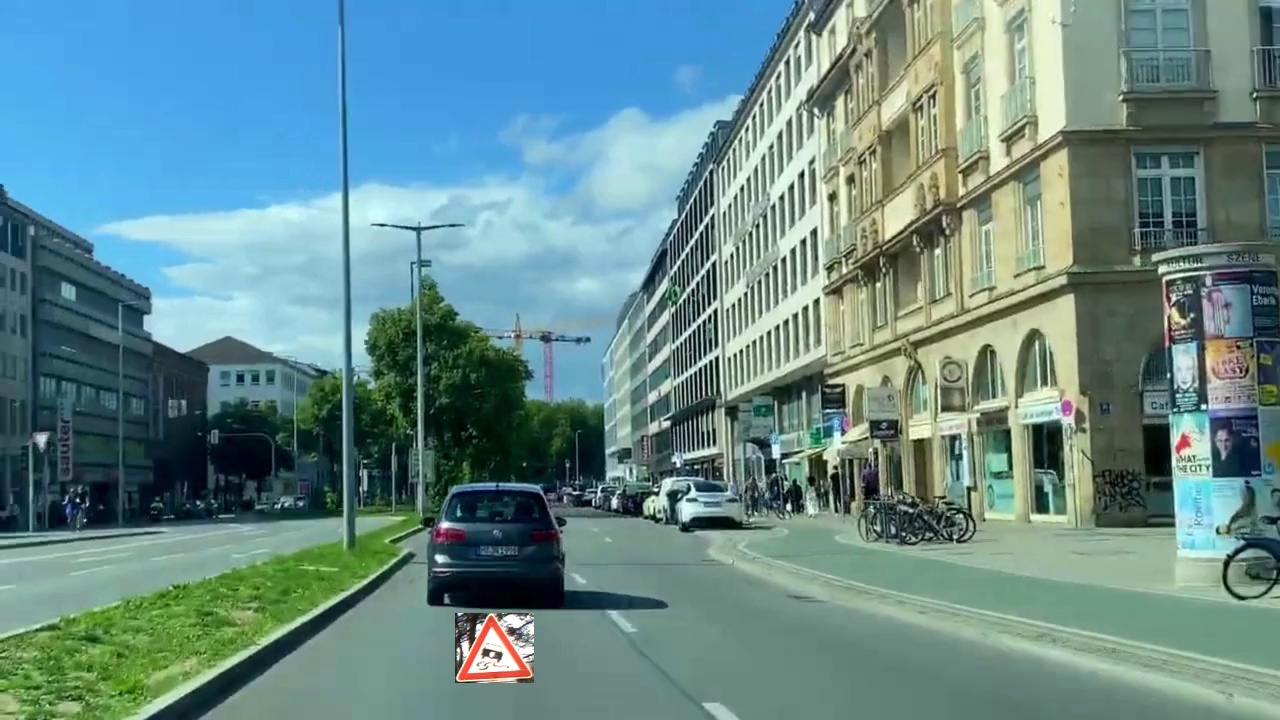Slippery: (455, 613, 534, 683)
